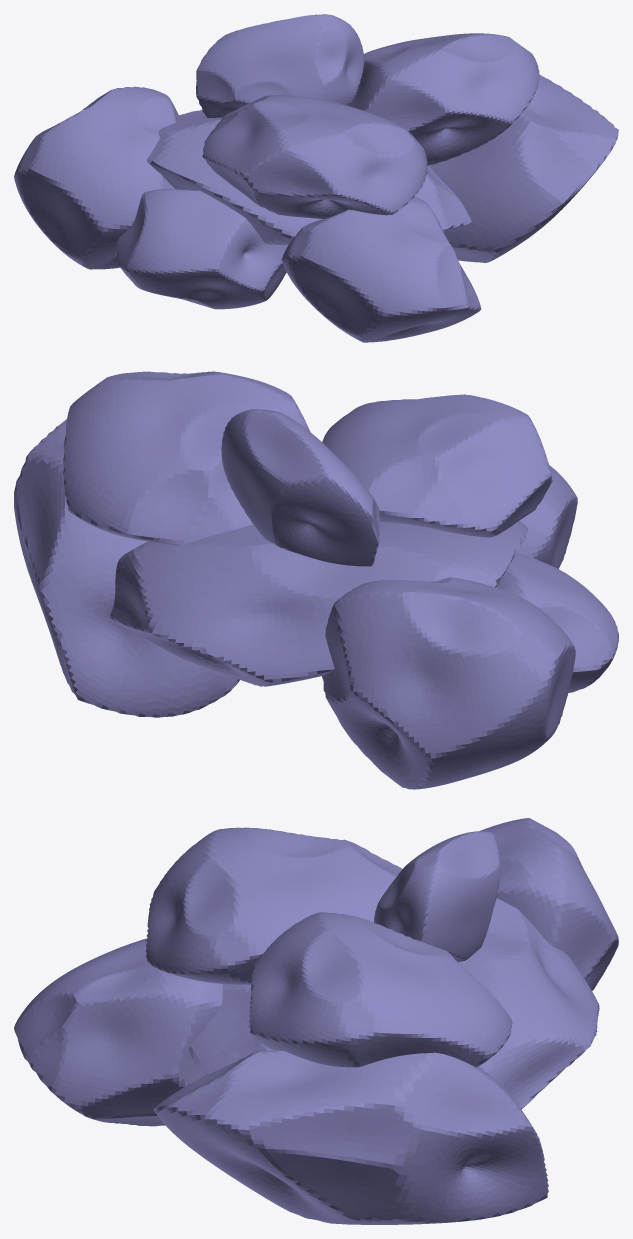
File: Mithrill stone.fbx
3 renders of one model, top to bottom at view 1: azimuth 30°, elevation 25°; view 2: azimuth 150°, elevation 25°; view 3: azimuth 270°, elevation 25°, orthographic. The views are drawn at different scales.
Visible parts, largest first — view 1: Cube.011, Cube.012, Cube.014, Cube.006, Cube.008, Cube.009, Cube.010, Cube.004; view 2: Cube.014, Cube.004, Cube.008, Cube.006, Cube.011, Cube.010, Cube.009, Cube.012; view 3: Cube.006, Cube.008, Cube.011, Cube.012, Cube.004, Cube.014, Cube.010.
Boxes of the visible parts, x1,y1,x2,y2 form: Cube.011: [202, 95, 427, 219]; Cube.012: [281, 196, 481, 342]; Cube.014: [14, 86, 178, 269]; Cube.006: [429, 74, 618, 262]; Cube.008: [347, 33, 539, 165]; Cube.009: [117, 189, 288, 309]; Cube.010: [196, 14, 364, 117]; Cube.004: [146, 109, 471, 245]; Cube.014: [322, 577, 575, 789]; Cube.004: [110, 521, 528, 686]; Cube.008: [63, 371, 310, 544]; Cube.006: [14, 419, 239, 717]; Cube.011: [322, 394, 552, 537]; Cube.010: [221, 409, 379, 566]; Cube.009: [496, 553, 618, 692]; Cube.012: [517, 465, 577, 568]; Cube.006: [153, 1050, 548, 1224]; Cube.008: [249, 912, 512, 1067]; Cube.011: [146, 827, 402, 984]; Cube.012: [14, 938, 222, 1126]; Cube.004: [188, 898, 599, 1109]; Cube.014: [479, 818, 618, 990]; Cube.010: [374, 831, 500, 962].
Size of the model in its own units: 76.56 by 36.66 by 65.61.
